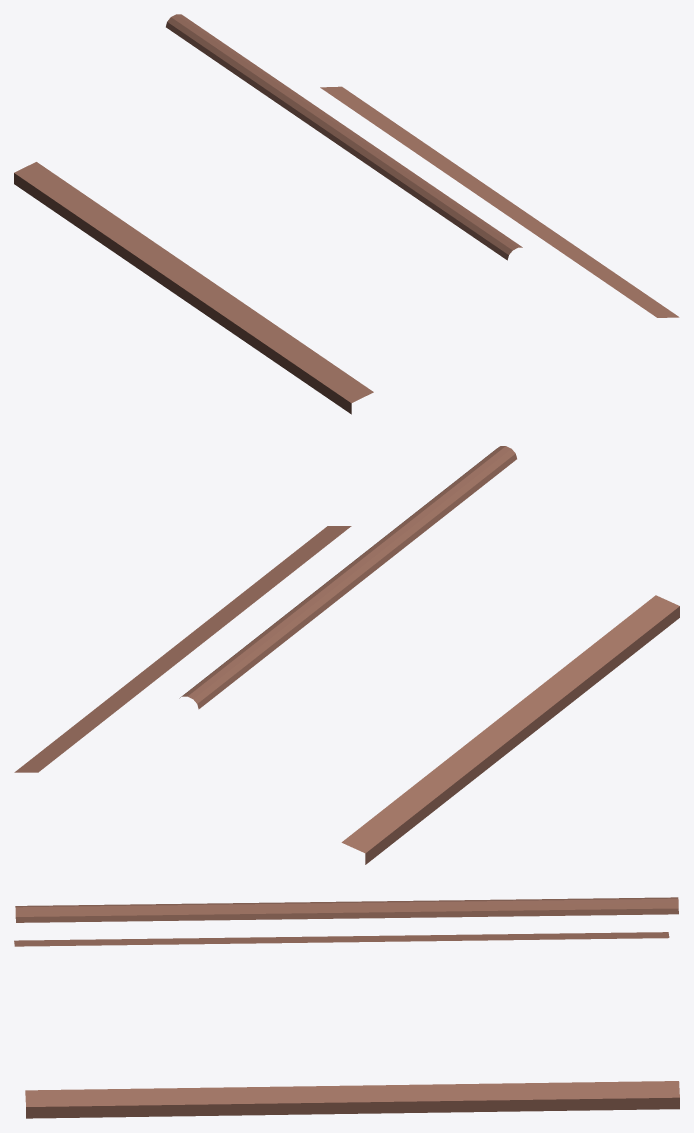
The picture shows the model from 3 angles, top to bottom: view 1: azimuth 30°, elevation 25°; view 2: azimuth 150°, elevation 25°; view 3: azimuth 270°, elevation 25°; orthographic projection. The views are drawn at different scales.
Visible parts, largest first — view 1: detail; view 2: detail; view 3: detail.
Part boxes in pixels (x1,y1,x2,y2): detail: [14, 14, 679, 414]; detail: [14, 446, 679, 864]; detail: [14, 897, 679, 1118].
Size of the model in its own units: 4.9 by 1.79 by 7.89.
